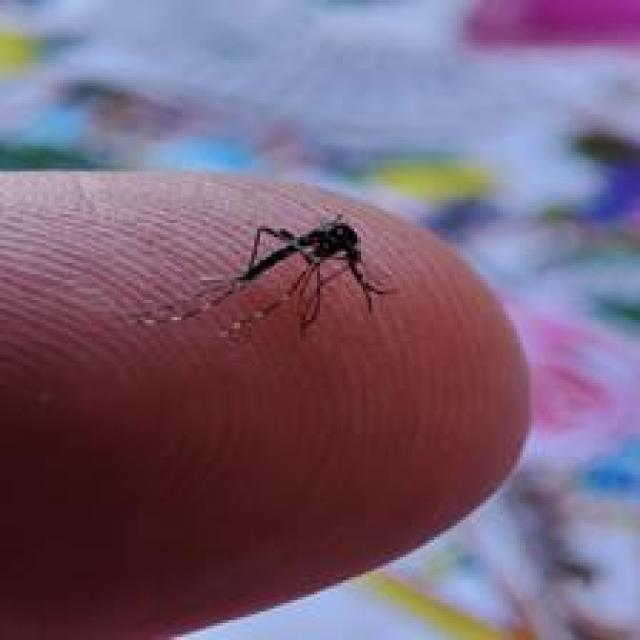Aedes albopictus: (129, 211, 400, 346)
